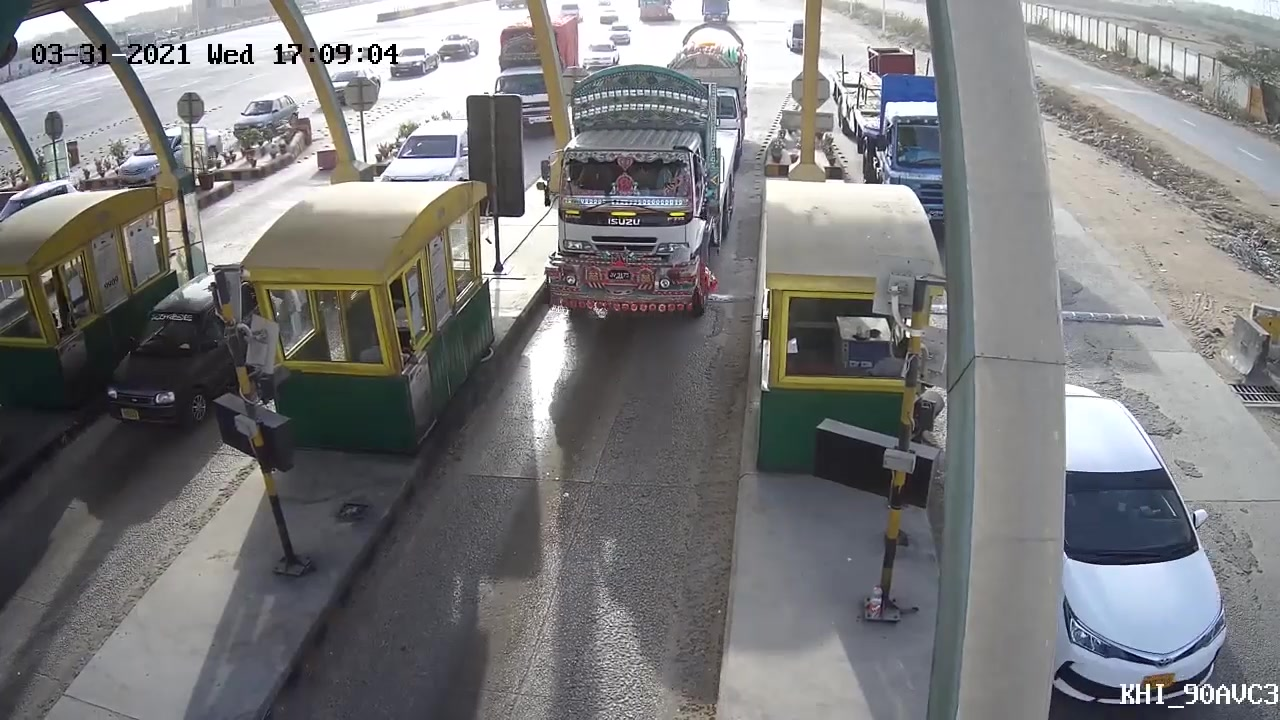F5: (542, 65, 746, 338)
